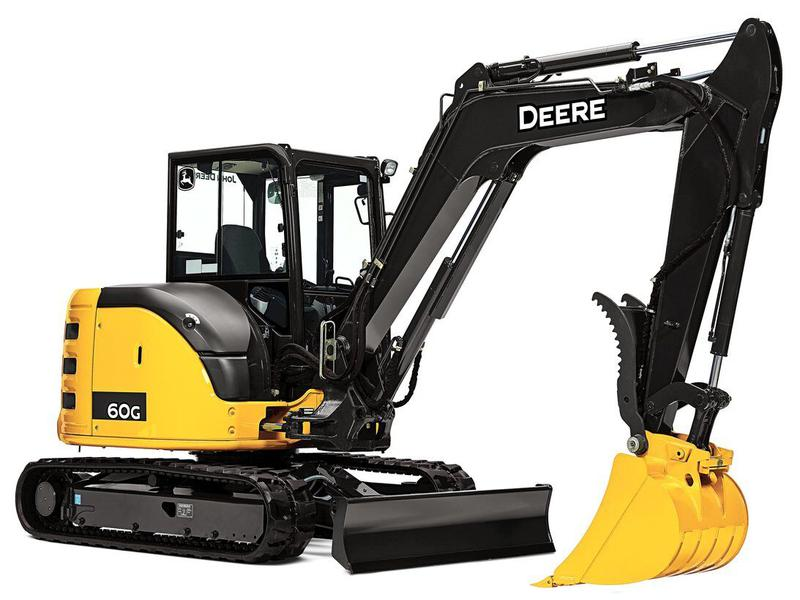shovel: (13, 17, 794, 592)
